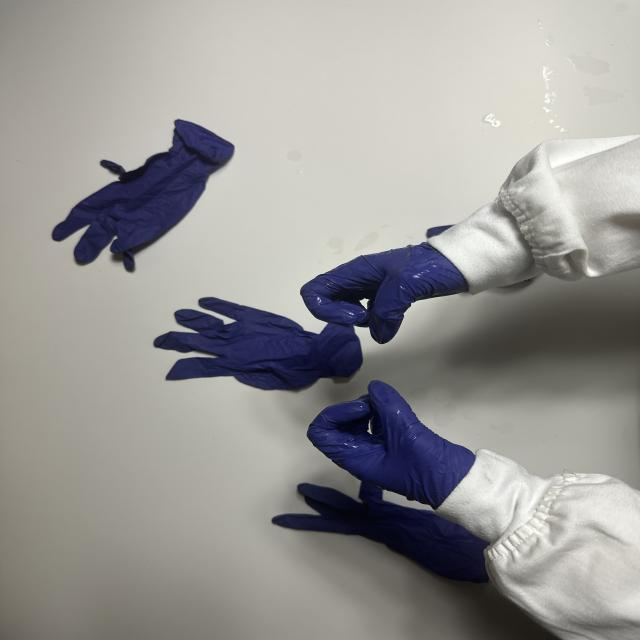gloves_contaminated: (308, 381, 475, 508), (301, 242, 468, 344)
